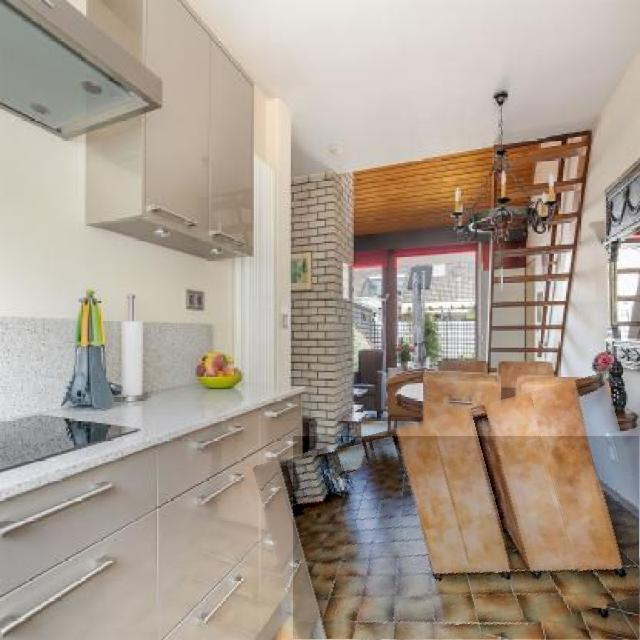floor: (294, 436, 640, 640)
